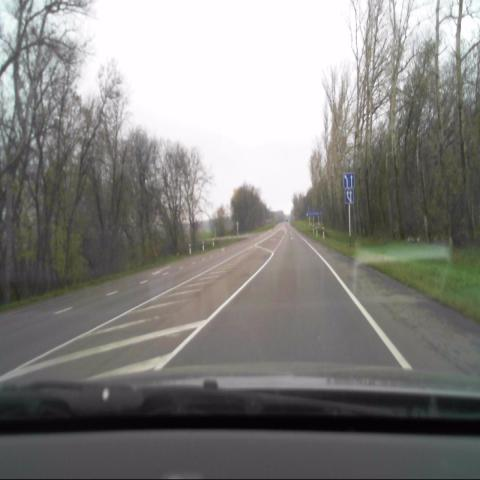5_15_2_2: (342, 173, 354, 188)
5_15_3: (345, 188, 354, 204)
